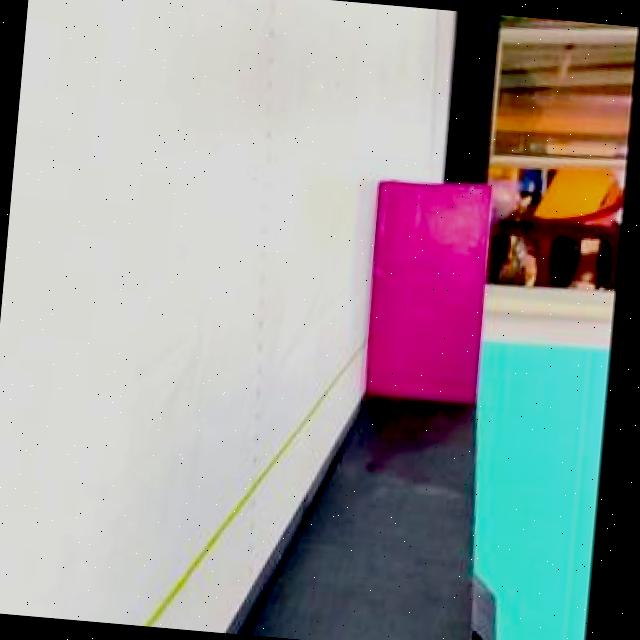xparking: (364, 181, 491, 394)
